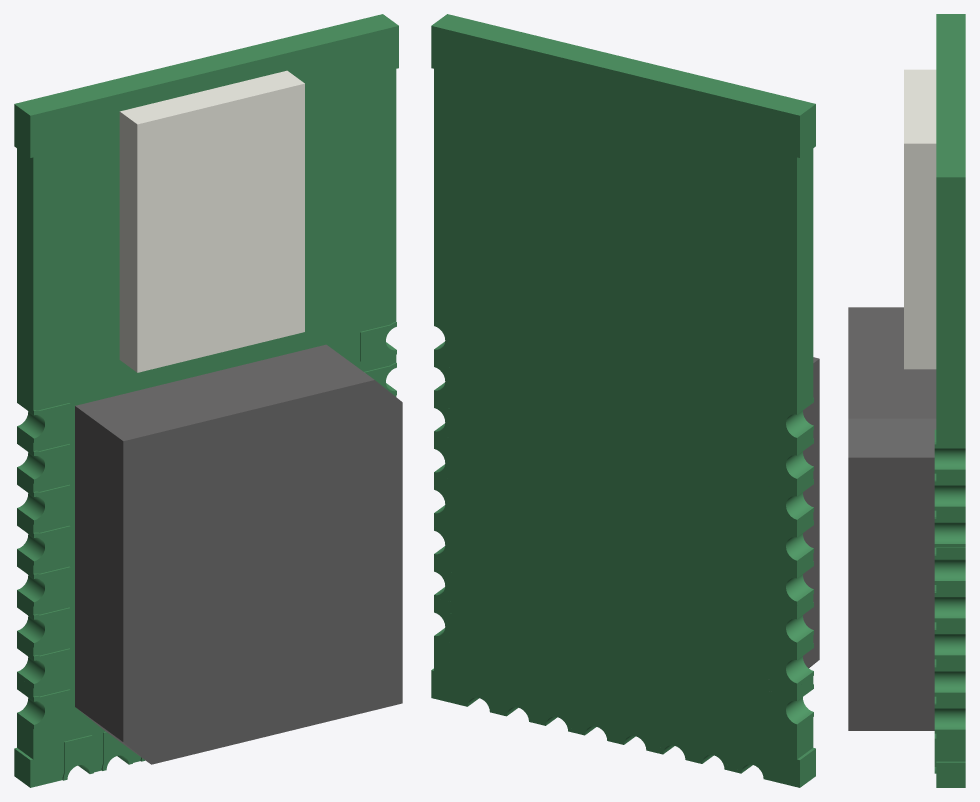
Rendered from DWM1000.glb.
3 renders of one model, left to right at view 1: azimuth 30°, elevation 25°; view 2: azimuth 150°, elevation 25°; view 3: azimuth 270°, elevation 25°, orthographic. The views are drawn at different scales.
Parts seen in each view (by area): view 1: Shape_IndexedFaceSet.241, Shape_IndexedFaceSet.005, Shape_IndexedFaceSet, Shape_IndexedFaceSet.164, Shape_IndexedFaceSet.166, Shape_IndexedFaceSet.112, Shape_IndexedFaceSet.004, Shape_IndexedFaceSet.118, Shape_IndexedFaceSet.001, Shape_IndexedFaceSet.212, Shape_IndexedFaceSet.214, Shape_IndexedFaceSet.227 (+8 smaller); view 2: Shape_IndexedFaceSet.168, Shape_IndexedFaceSet.112, Shape_IndexedFaceSet.118, Shape_IndexedFaceSet.164, Shape_IndexedFaceSet.279, Shape_IndexedFaceSet.243, Shape_IndexedFaceSet.267, Shape_IndexedFaceSet.277, Shape_IndexedFaceSet.283, Shape_IndexedFaceSet.275, Shape_IndexedFaceSet.281, Shape_IndexedFaceSet.289 (+17 smaller); view 3: Shape_IndexedFaceSet.165, Shape_IndexedFaceSet.166, Shape_IndexedFaceSet.002, Shape_IndexedFaceSet.106, Shape_IndexedFaceSet.112, Shape_IndexedFaceSet.167, Shape_IndexedFaceSet.001, Shape_IndexedFaceSet.110, Shape_IndexedFaceSet.010, Shape_IndexedFaceSet.006, Shape_IndexedFaceSet.291, Shape_IndexedFaceSet.293 (+13 smaller).
Part boxes in pixels (left/top/right/bottom): Shape_IndexedFaceSet.241: left=123, top=380, right=402, bottom=764; Shape_IndexedFaceSet.005: left=30, top=26, right=398, bottom=787; Shape_IndexedFaceSet: left=137, top=83, right=304, bottom=372; Shape_IndexedFaceSet.164: left=75, top=406, right=123, bottom=741; Shape_IndexedFaceSet.166: left=75, top=344, right=374, bottom=441; Shape_IndexedFaceSet.112: left=15, top=14, right=398, bottom=115; Shape_IndexedFaceSet.004: left=119, top=112, right=137, bottom=372; Shape_IndexedFaceSet.118: left=17, top=148, right=33, bottom=409; Shape_IndexedFaceSet.001: left=120, top=70, right=304, bottom=124; Shape_IndexedFaceSet.212: left=63, top=735, right=93, bottom=780; Shape_IndexedFaceSet.214: left=360, top=322, right=396, bottom=361; Shape_IndexedFaceSet.227: left=34, top=444, right=70, bottom=483; Shape_IndexedFaceSet.168: left=431, top=26, right=799, bottom=787; Shape_IndexedFaceSet.112: left=431, top=14, right=815, bottom=115; Shape_IndexedFaceSet.118: left=797, top=148, right=813, bottom=409; Shape_IndexedFaceSet.164: left=803, top=359, right=819, bottom=667; Shape_IndexedFaceSet.279: left=760, top=648, right=790, bottom=684; Shape_IndexedFaceSet.243: left=464, top=668, right=492, bottom=705; Shape_IndexedFaceSet.267: left=699, top=725, right=727, bottom=762; Shape_IndexedFaceSet.277: left=760, top=403, right=790, bottom=438; Shape_IndexedFaceSet.283: left=760, top=607, right=790, bottom=643; Shape_IndexedFaceSet.275: left=760, top=689, right=790, bottom=725; Shape_IndexedFaceSet.281: left=760, top=444, right=790, bottom=480; Shape_IndexedFaceSet.289: left=760, top=525, right=789, bottom=561; Shape_IndexedFaceSet.165: left=848, top=457, right=934, bottom=730; Shape_IndexedFaceSet.166: left=848, top=307, right=936, bottom=418; Shape_IndexedFaceSet.002: left=904, top=143, right=936, bottom=369; Shape_IndexedFaceSet.106: left=936, top=216, right=965, bottom=444; Shape_IndexedFaceSet.112: left=936, top=14, right=965, bottom=177; Shape_IndexedFaceSet.167: left=848, top=418, right=936, bottom=457; Shape_IndexedFaceSet.001: left=904, top=69, right=936, bottom=143; Shape_IndexedFaceSet.110: left=936, top=177, right=965, bottom=215; Shape_IndexedFaceSet.010: left=936, top=733, right=965, bottom=761; Shape_IndexedFaceSet.006: left=936, top=762, right=965, bottom=787; Shape_IndexedFaceSet.291: left=934, top=708, right=965, bottom=729; Shape_IndexedFaceSet.293: left=934, top=671, right=965, bottom=692.
Size of the model in its own units: 5.2 by 9.06 by 1.57.
